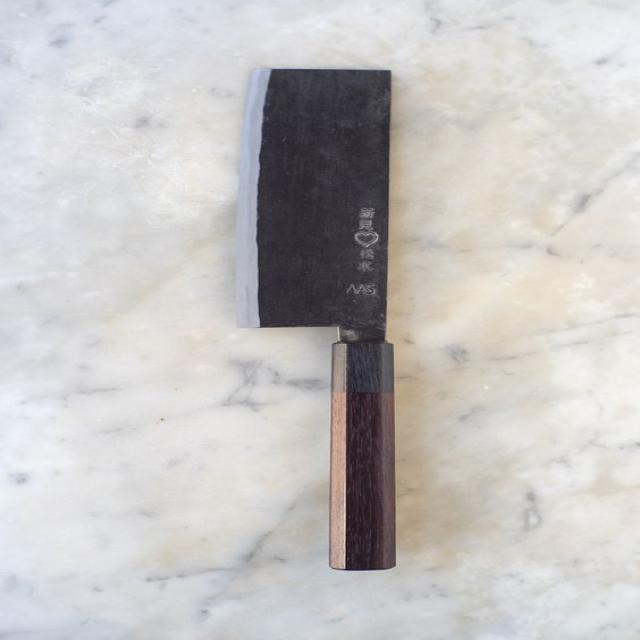cleaver: (236, 58, 412, 580)
